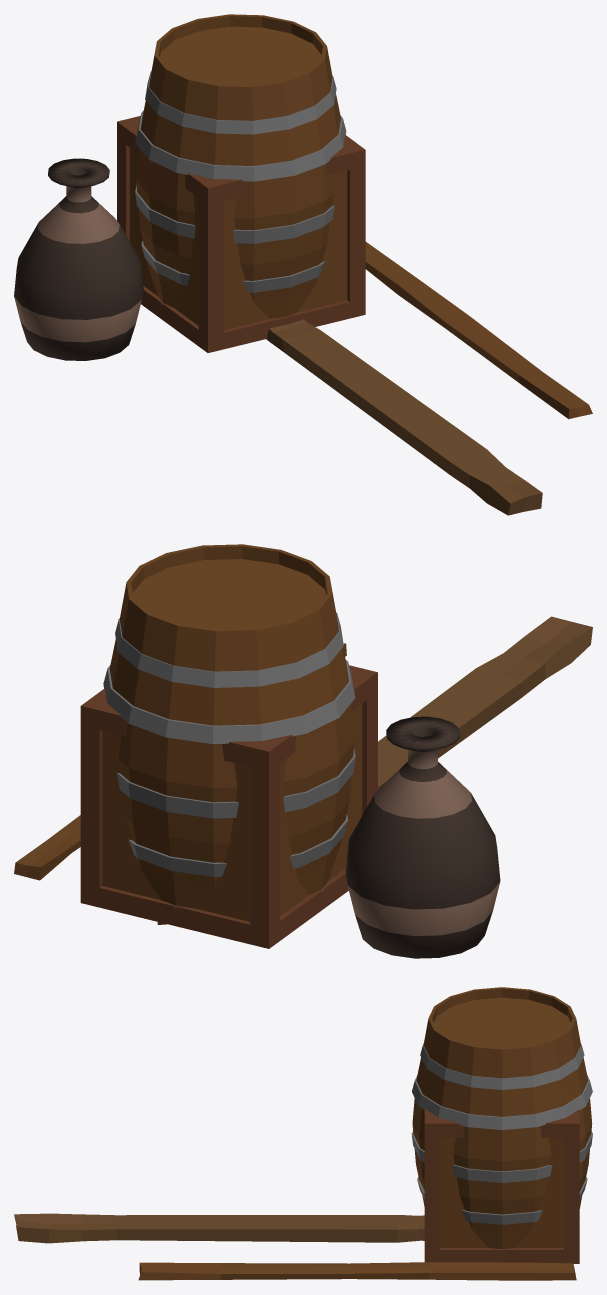
Rendered from props.fbx.
3 views of the same model, one above another, from view 1: azimuth 30°, elevation 25°; view 2: azimuth 150°, elevation 25°; view 3: azimuth 270°, elevation 25° (orthographic). The views are drawn at different scales.
Visible parts, largest first — view 1: Ring1, WoodenBox, vase2, Plank1, Plank2; view 2: Ring1, WoodenBox, vase2, Plank1, Plank2; view 3: Ring1, WoodenBox, Plank1, Plank2.
Boxes of the visible parts, x1=… form: Ring1: x1=135, y1=14, x2=346, y2=318; WoodenBox: x1=117, y1=116, x2=365, y2=352; vase2: x1=14, y1=158, x2=143, y2=360; Plank1: x1=266, y1=319, x2=542, y2=515; Plank2: x1=365, y1=242, x2=592, y2=419; Ring1: x1=103, y1=544, x2=355, y2=908; WoodenBox: x1=80, y1=665, x2=377, y2=948; vase2: x1=345, y1=716, x2=500, y2=958; Plank1: x1=157, y1=616, x2=592, y2=924; Plank2: x1=14, y1=643, x2=346, y2=880; Ring1: x1=411, y1=987, x2=592, y2=1248; WoodenBox: x1=424, y1=1109, x2=579, y2=1263; Plank1: x1=14, y1=1213, x2=424, y2=1243; Plank2: x1=138, y1=1262, x2=576, y2=1280.
Bounding box in the file's own units: 790 × 327 × 478.
